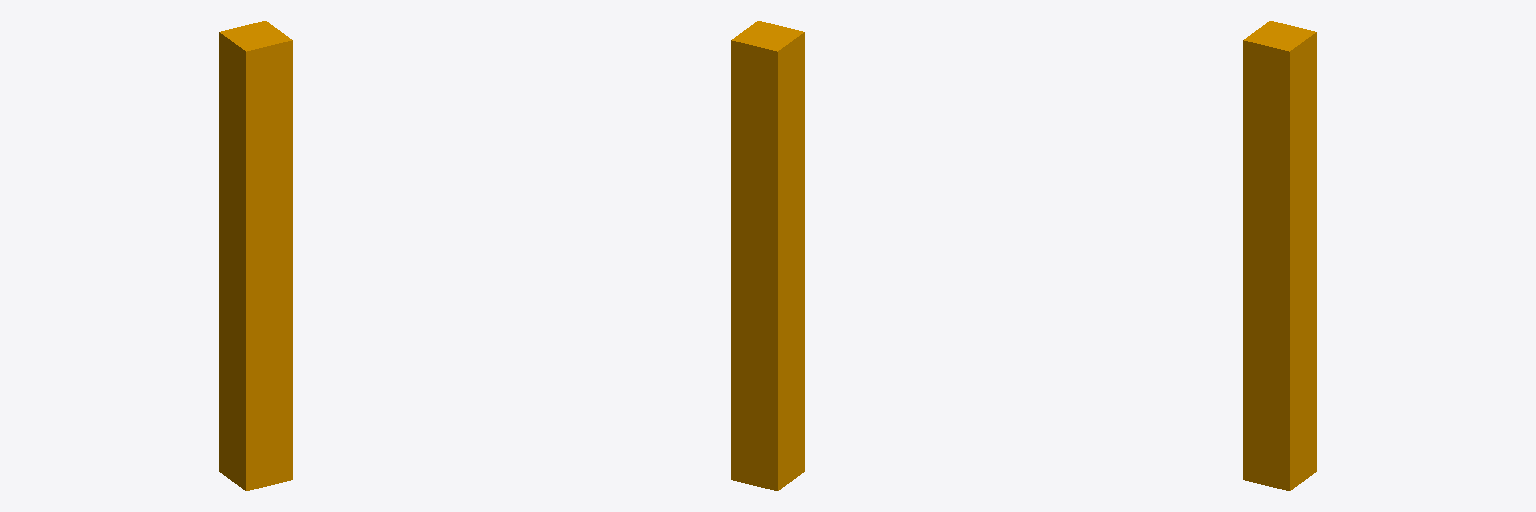
robot.urdf — box:
<?xml version='1.0' encoding='UTF-8'?>
<robot name="box">
  <link name="base_link">
    <inertial>
      <origin xyz="0.0 0.0 0.0" rpy="0.0 -0.0 0.0"/>
      <mass value="1.0"/>
      <inertia ixx="1.0" ixy="0.0" ixz="0.0" iyy="1.0" iyz="0.0" izz="1.0"/>
    </inertial>
    <visual name="base_link_visual">
      <geometry>
        <box size="0.2 0.2 1.8"/>
      </geometry>
      <origin xyz="0 0 0.9" rpy="0 0 0"/>
    </visual>
    <collision name="base_link_collision">
      <geometry>
        <box size="0.2 0.2 1.8"/>
      </geometry>
      <origin xyz="0 0 0.9" rpy="0 0 0"/>
    </collision>
  </link>
</robot>

--- Facts derived from the render (not from the file) ---
3 views of the same robot in one strip: view 1: azimuth 30°, elevation 25°; view 2: azimuth 150°, elevation 25°; view 3: azimuth 330°, elevation 25° (orthographic).
Robot: box — 1 links, 0 joints (none); root link base_link; default pose: every joint at zero.
Visible links, largest first — view 1: base_link; view 2: base_link; view 3: base_link.
Boxes of the visible links, bbox=[...] form: base_link: bbox=[219, 21, 292, 490]; base_link: bbox=[731, 21, 804, 490]; base_link: bbox=[1243, 21, 1316, 490].
Size in the robot's own frame: 0.2 by 0.2 by 1.8 metres.
Geometry: primitives only (box / cylinder / sphere), no mesh files.